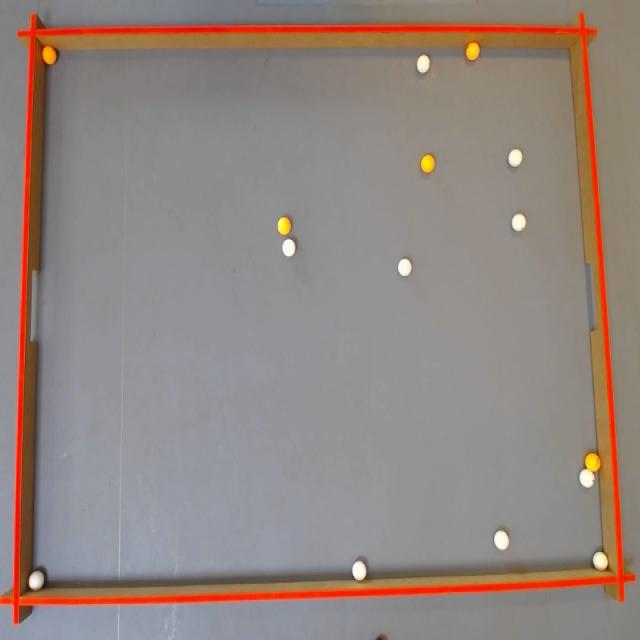orange_ball: (584, 452, 600, 472), (42, 46, 57, 65), (466, 41, 480, 60), (421, 154, 435, 172), (278, 217, 290, 234)
white_ball: (28, 570, 45, 591), (592, 551, 608, 571), (579, 469, 595, 488), (494, 530, 509, 550), (352, 560, 366, 581), (508, 149, 523, 167), (512, 213, 526, 232), (282, 238, 296, 256), (416, 54, 429, 73), (398, 258, 411, 276)
